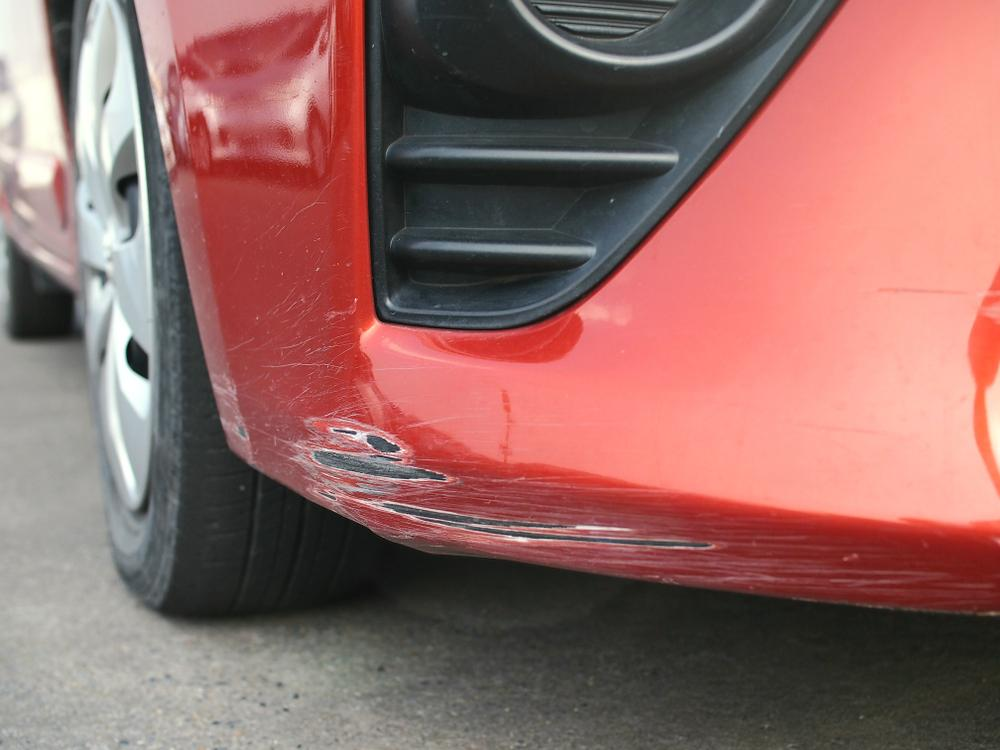scratch: (208, 373, 1000, 617)
